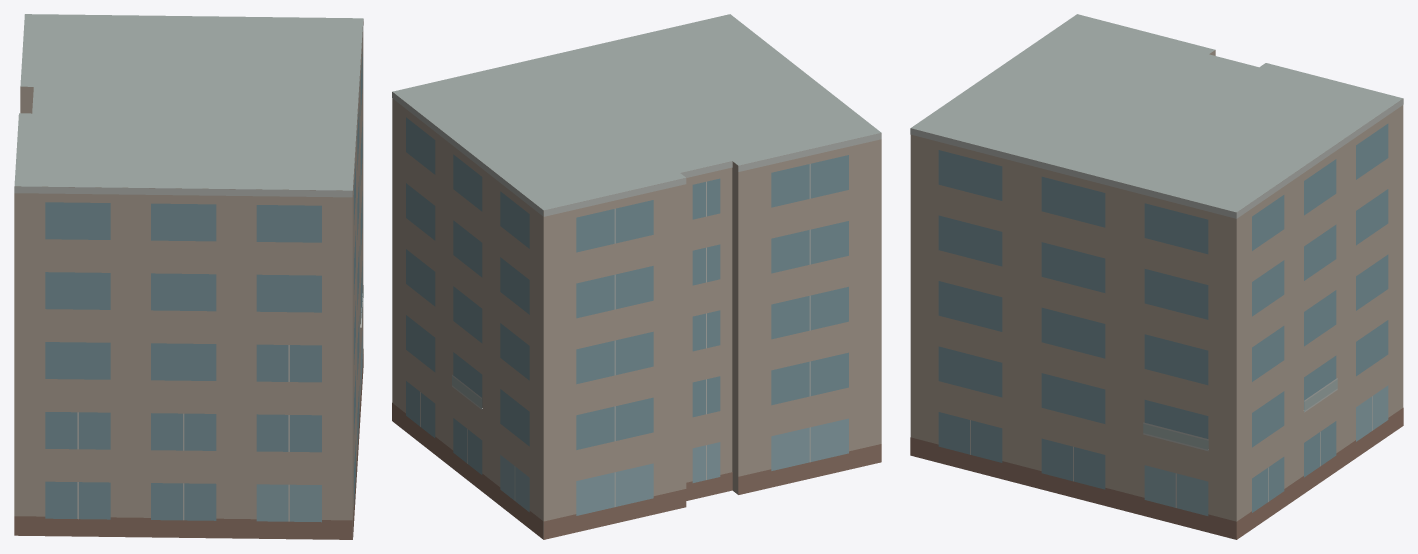
File: survey-upis-32737740.glb
The picture shows the model from 3 angles, left to right: view 1: azimuth 30°, elevation 25°; view 2: azimuth 150°, elevation 25°; view 3: azimuth 270°, elevation 25°; orthographic projection. The views are drawn at different scales.
Parts seen in each view (by area): view 1: survey-upis-32737740.tmp; view 2: survey-upis-32737740.tmp; view 3: survey-upis-32737740.tmp.
Part boxes in pixels (x1=…): survey-upis-32737740.tmp: x1=14, y1=14, x2=363, y2=539; survey-upis-32737740.tmp: x1=392, y1=14, x2=881, y2=539; survey-upis-32737740.tmp: x1=910, y1=14, x2=1403, y2=539.
Bounding box in the file's own units: 16.26 × 12.5 × 17.06.
